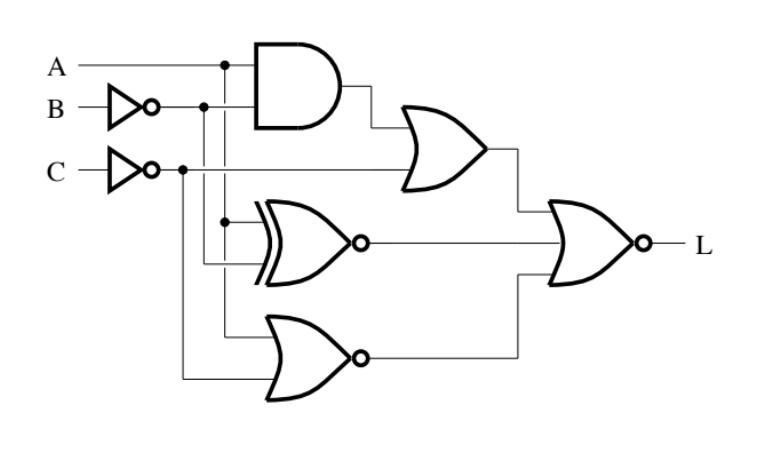and: (243, 33, 351, 137)
nor: (258, 308, 380, 410)
not: (101, 139, 166, 200), (101, 77, 166, 136)
or: (394, 99, 496, 201)
xnor: (246, 194, 376, 293)
